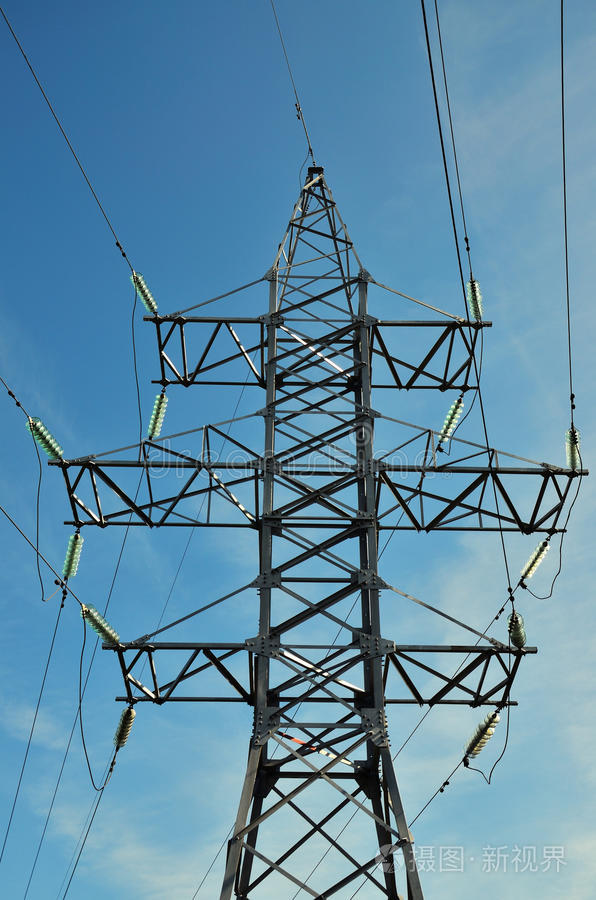insulator: (21, 413, 62, 459), (464, 711, 502, 758), (79, 604, 117, 643), (127, 268, 159, 314), (517, 540, 548, 580), (436, 401, 461, 450), (143, 397, 167, 442), (110, 708, 135, 751), (61, 534, 81, 578), (463, 279, 485, 319), (564, 425, 582, 469)
